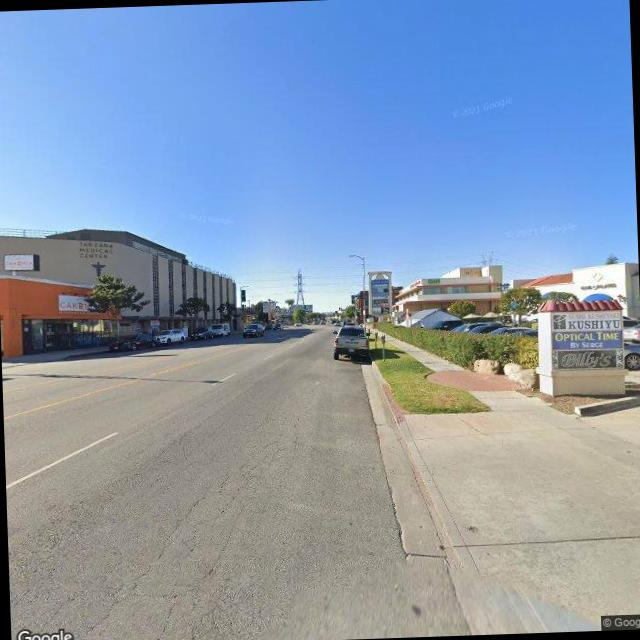crack: (85, 441, 290, 640)
